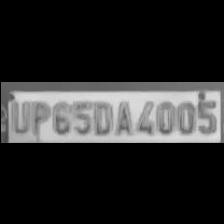0: (174, 98, 196, 134), (154, 98, 174, 134)
4: (134, 98, 156, 134)
5: (194, 96, 218, 134), (71, 98, 91, 134)
6: (48, 99, 70, 135)
A: (111, 98, 132, 134)
D: (90, 98, 112, 134)
P: (26, 97, 46, 135)
U: (8, 98, 28, 134)
